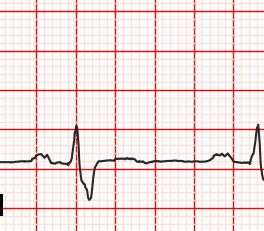ST Depression: (66, 156, 105, 204)
